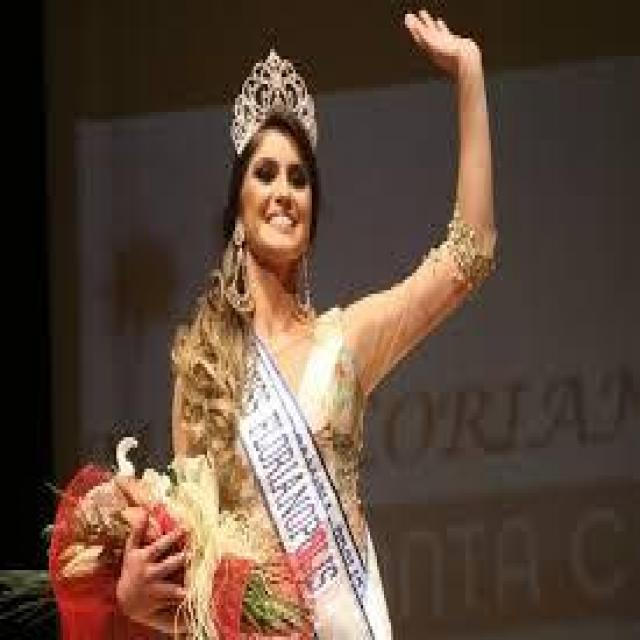person: (100, 11, 498, 636)
